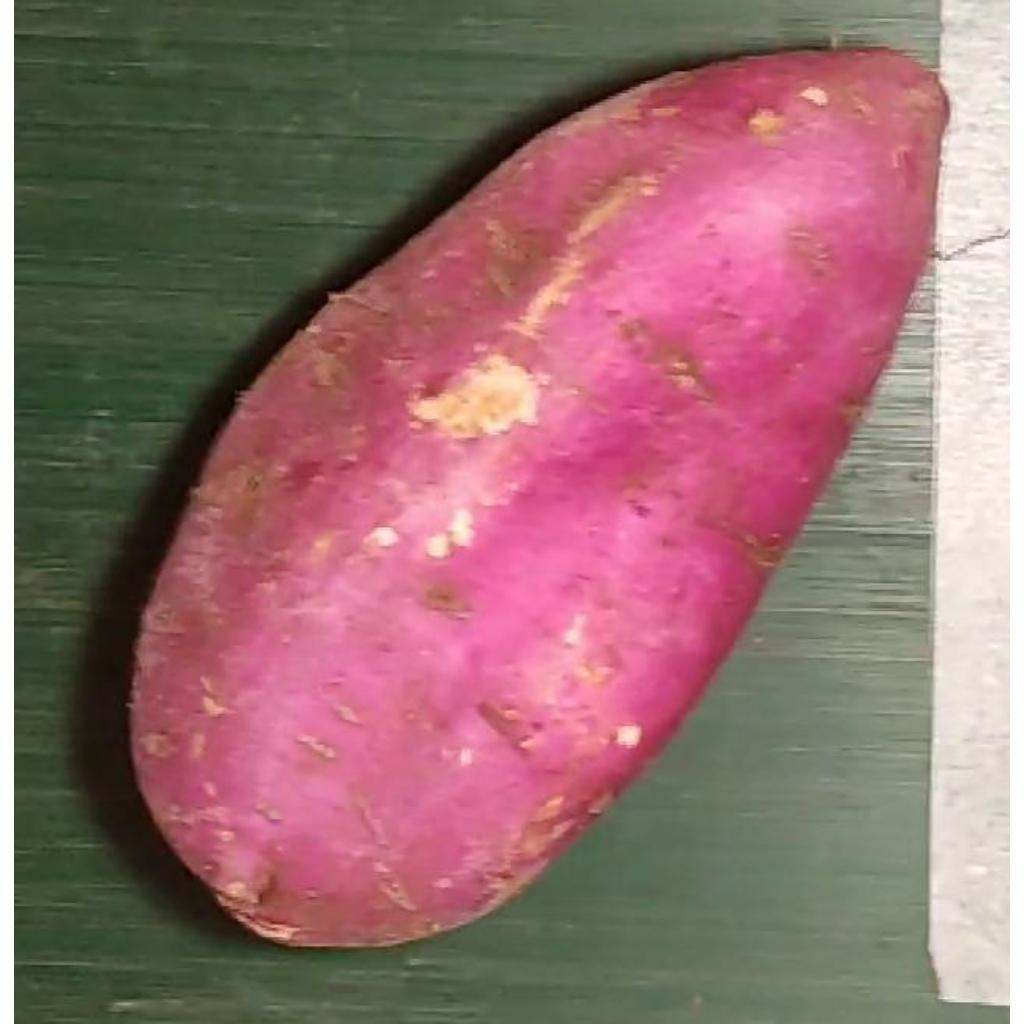Sweet Potato: (121, 47, 951, 954)
